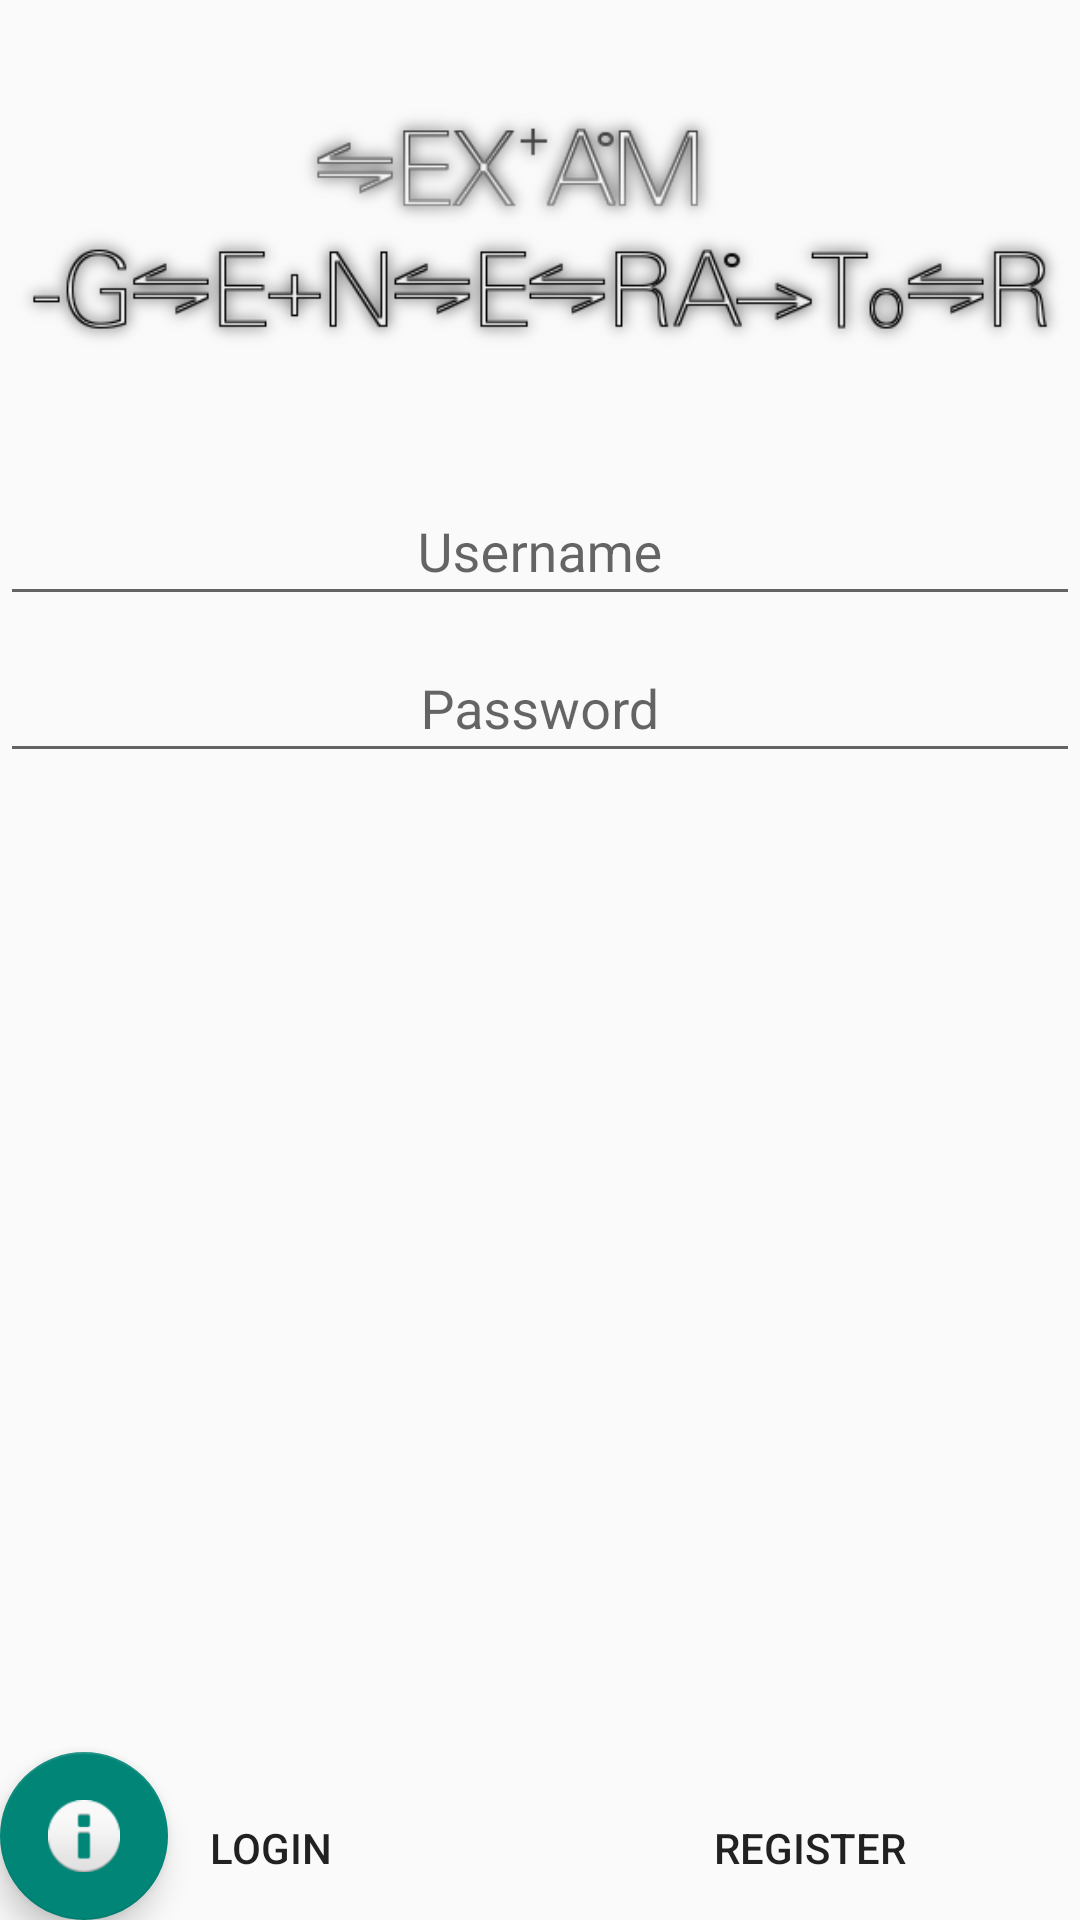

Named icons in this screenshot (1080px×1920px) and their bounding boxes, (x1, y1, x2, y2):
info: (0, 1752, 168, 1920)
